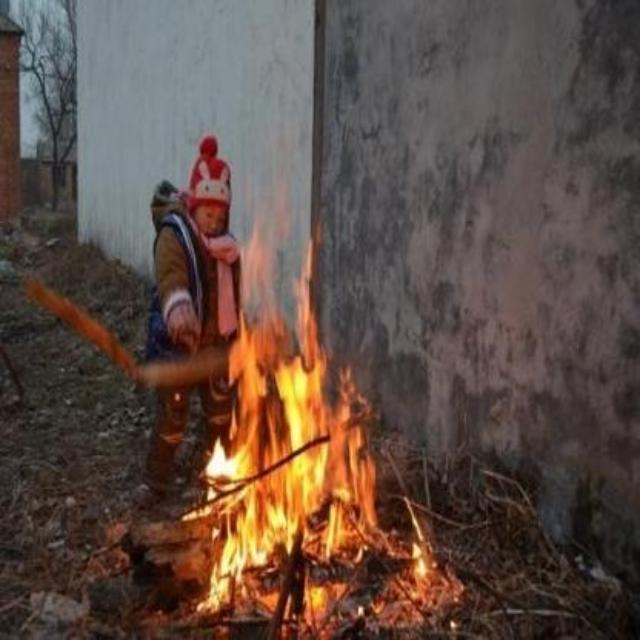Fire: (186, 164, 460, 636)
